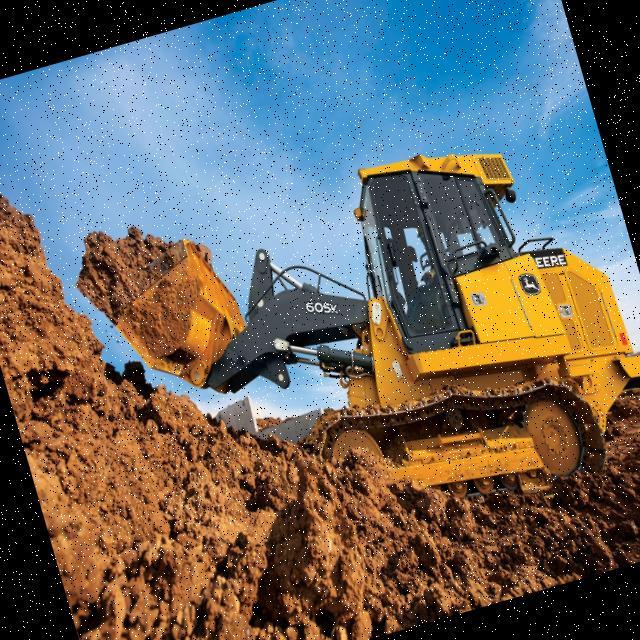Bulldozer: (33, 50, 640, 626)
